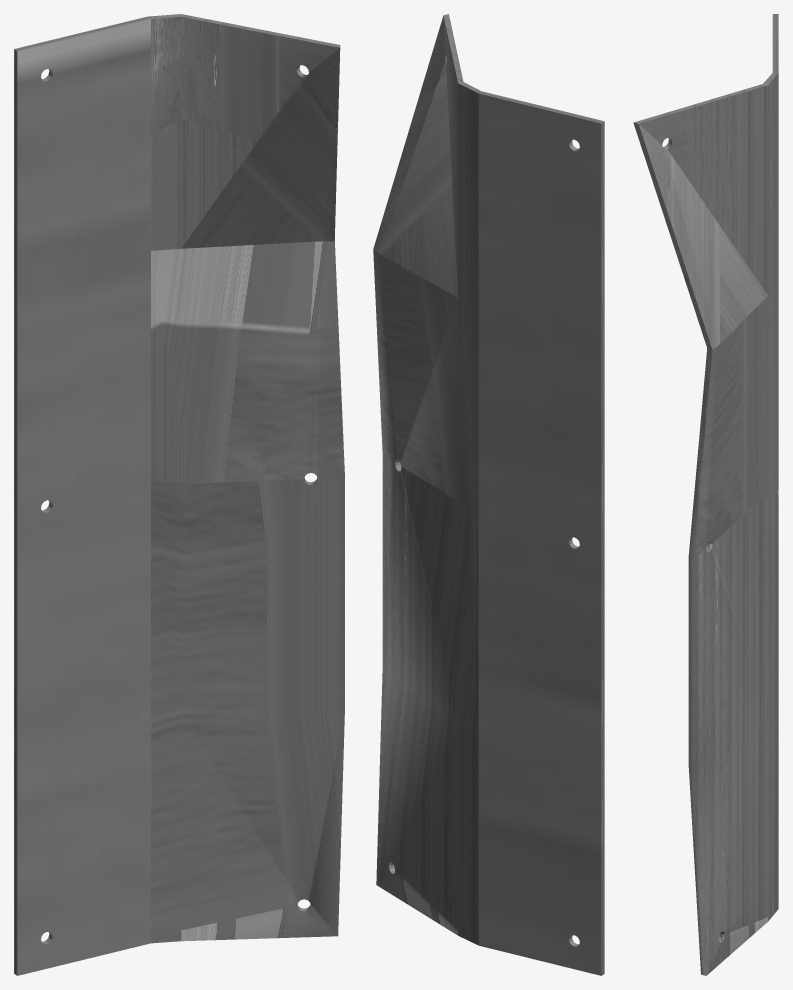
File: PlateBent.fbx
The picture shows the model from 3 angles, left to right: view 1: azimuth 30°, elevation 25°; view 2: azimuth 150°, elevation 25°; view 3: azimuth 270°, elevation 25°; orthographic projection. The views are drawn at different scales.
Visible parts, largest first — view 1: PlateBent; view 2: PlateBent; view 3: PlateBent.
Boxes of the visible parts, x1,y1,x2,y2 form: PlateBent: (14,14,344,975); PlateBent: (373,14,604,975); PlateBent: (633,14,778,975).
Bounding box in the file's own units: 48.26 × 150 × 23.62.
1 material, 1 textured.
